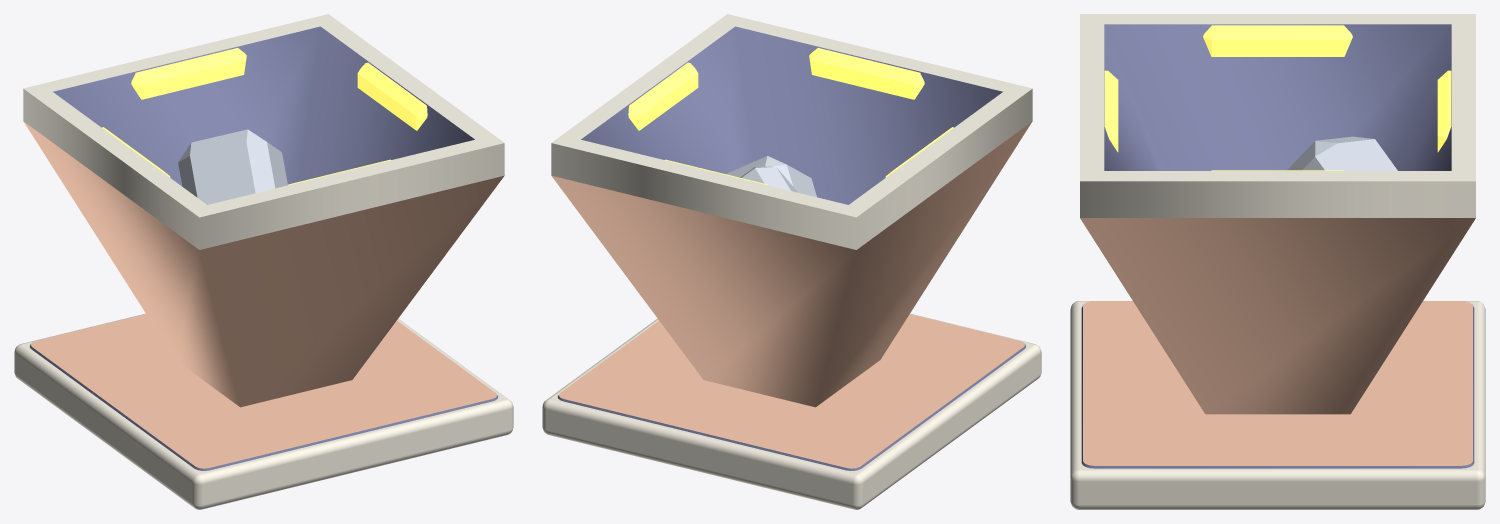
File: R4X_SalvageOptimizer.fbx
3 views of the same model, side by side, from view 1: azimuth 30°, elevation 25°; view 2: azimuth 150°, elevation 25°; view 3: azimuth 270°, elevation 25° (orthographic). The views are drawn at different scales.
Visible parts, largest first — view 1: R4X_SalvageOptimizer_Body; view 2: R4X_SalvageOptimizer_Body; view 3: R4X_SalvageOptimizer_Body.
Boxes of the visible parts, x1=… form: R4X_SalvageOptimizer_Body: x1=14, y1=14, x2=513, y2=509; R4X_SalvageOptimizer_Body: x1=542, y1=14, x2=1041, y2=509; R4X_SalvageOptimizer_Body: x1=1070, y1=14, x2=1485, y2=509.
Bounding box in the file's own units: 0.514 × 0.45 × 0.514.
